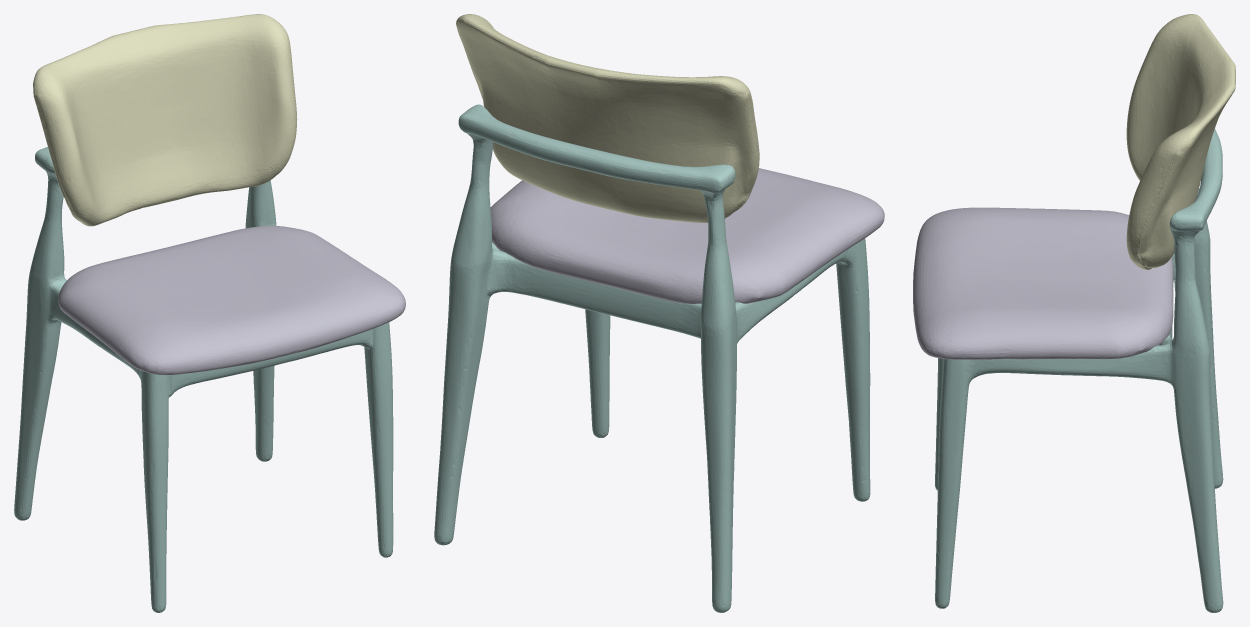
File: dining_chair_001.glb
3 renders of one model, left to right at view 1: azimuth 30°, elevation 25°; view 2: azimuth 150°, elevation 25°; view 3: azimuth 270°, elevation 25°, orthographic. The views are drawn at different scales.
Parts seen in each view (by area): view 1: world; view 2: world; view 3: world.
Boxes of the visible parts, x1=… form: world: x1=14, y1=14, x2=405, y2=612; world: x1=434, y1=14, x2=884, y2=612; world: x1=913, y1=14, x2=1235, y2=612.
Size of the model in its own units: 1.19 by 1.91 by 1.17.
